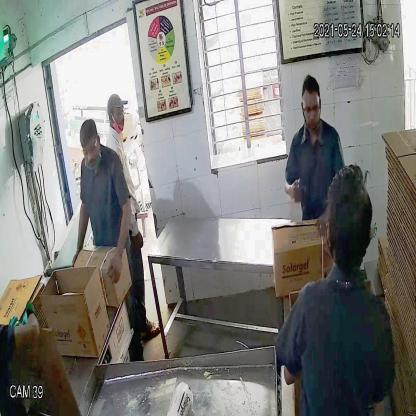goggles: (298, 96, 325, 119), (78, 137, 101, 159)
no_goggles: (108, 107, 126, 122)
